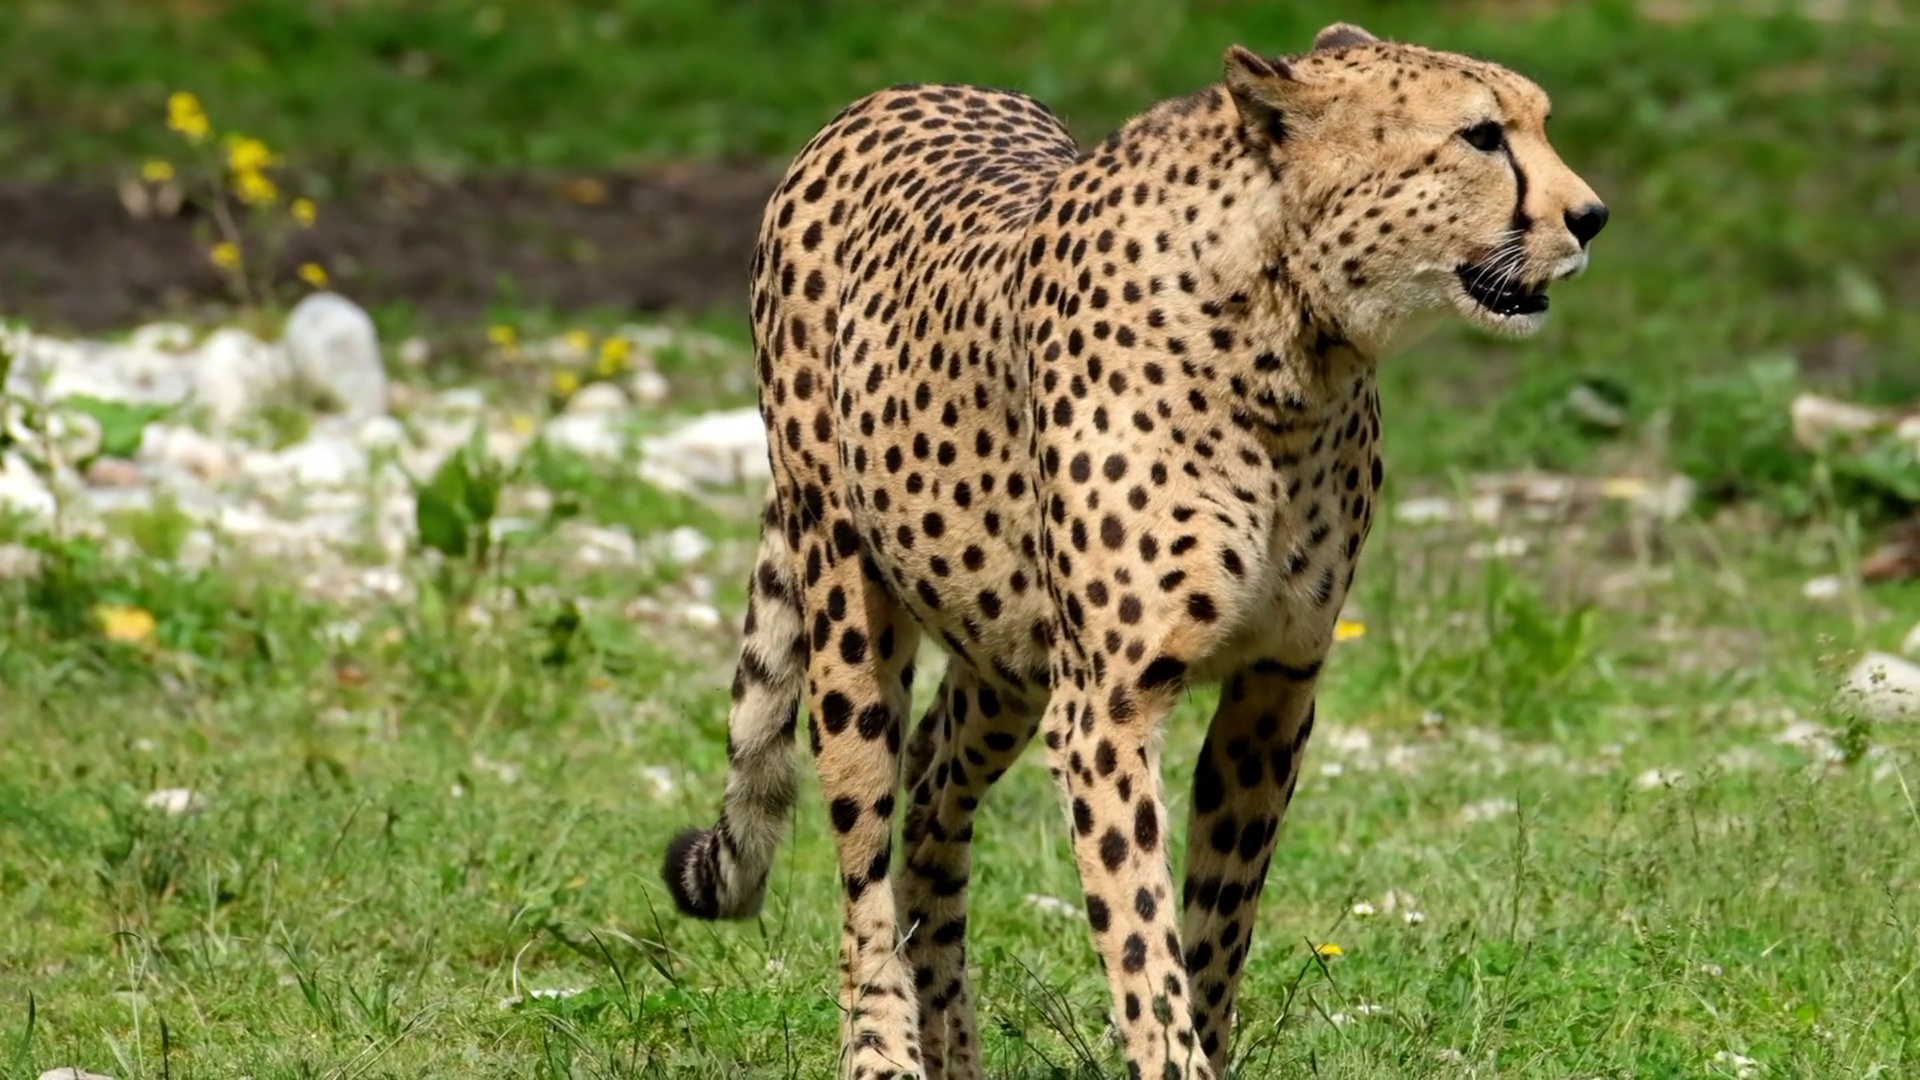Cheetah: (661, 18, 1615, 1080)
